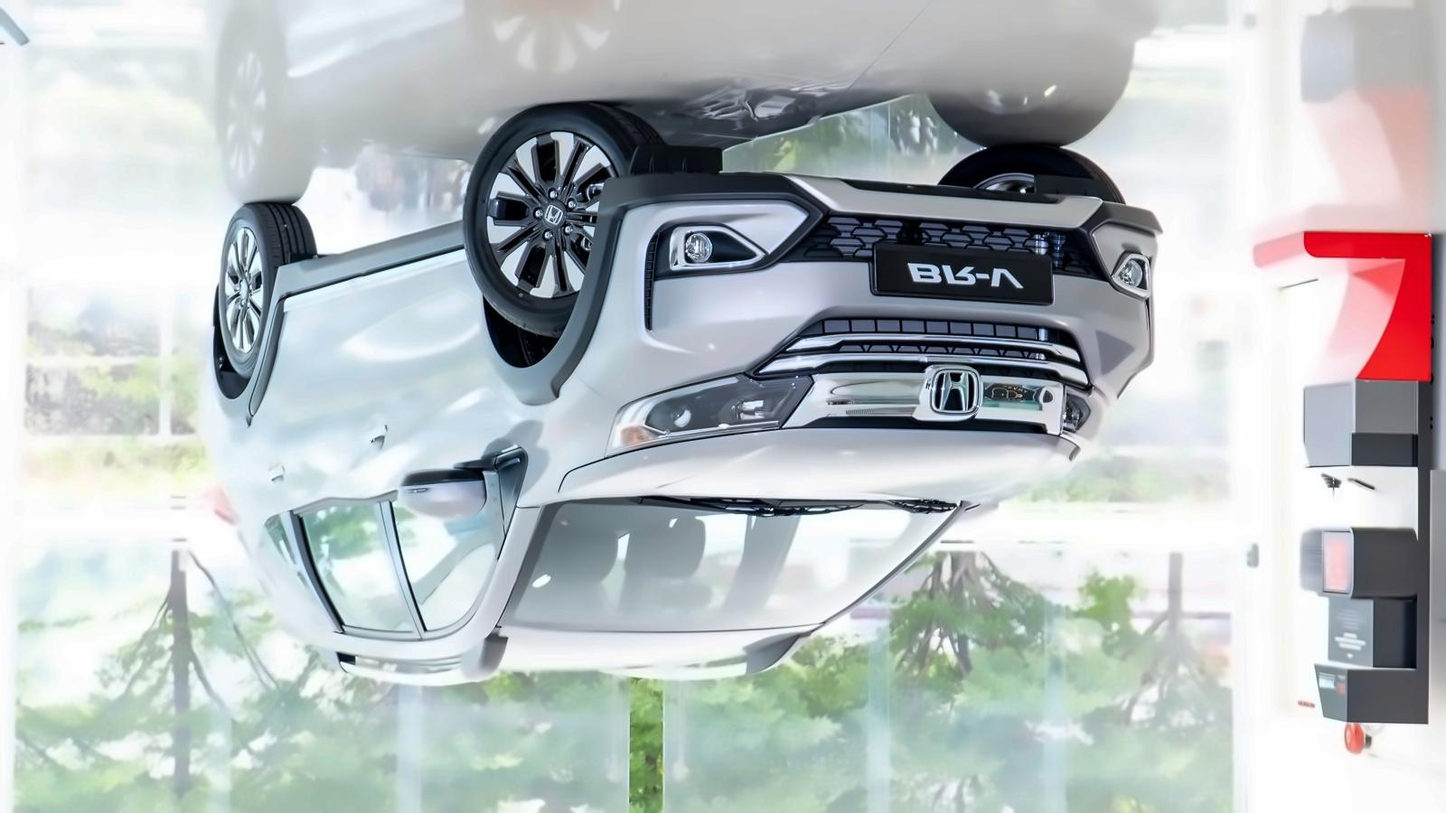Car hood: (549, 429, 1083, 519)
Fender - -F-L-: (458, 287, 623, 512)
Fender - -R-L-: (189, 286, 312, 558)
Front bumper: (572, 168, 1164, 408)
Headlight - -L-: (599, 368, 816, 462)
Headlight - -R-: (1061, 376, 1112, 443)
Passenger-s door - -F-L-: (355, 212, 537, 689)
Passenger-s door - -R-L-: (257, 213, 429, 685)
Side bumper - -L-: (263, 214, 477, 344)
Side mirror - -L-: (395, 444, 531, 521)
